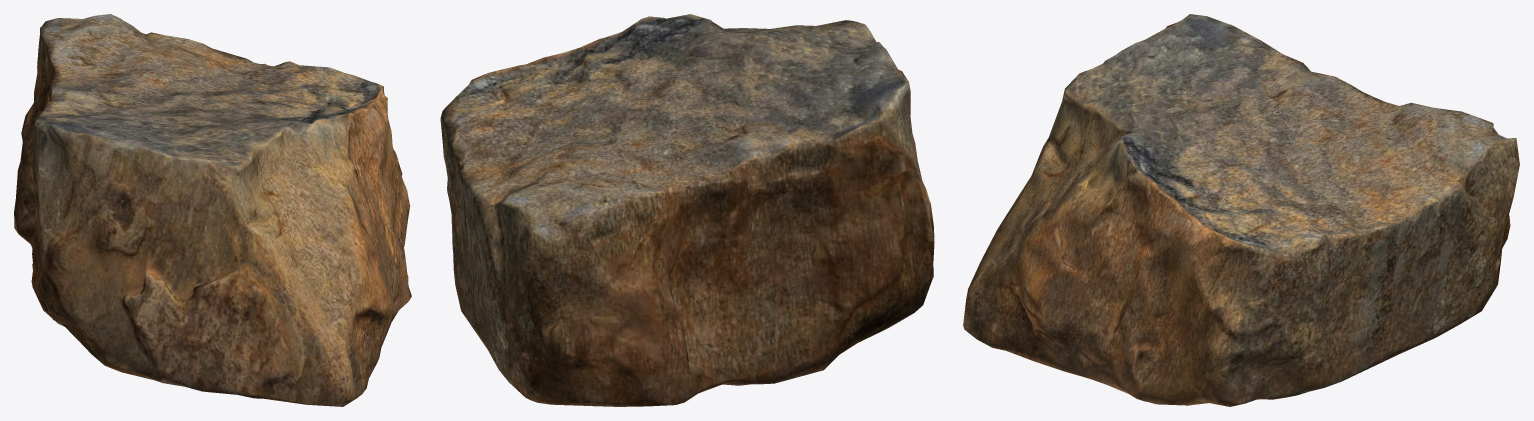
Rendered from namaqualand_boulder_03.slim.glb.
The picture shows the model from 3 angles, left to right: view 1: azimuth 30°, elevation 25°; view 2: azimuth 150°, elevation 25°; view 3: azimuth 270°, elevation 25°; orthographic projection. The views are drawn at different scales.
Size of the model in its own units: 2.4 by 1.47 by 3.06.
Materials: 1 (1 with a texture image).
